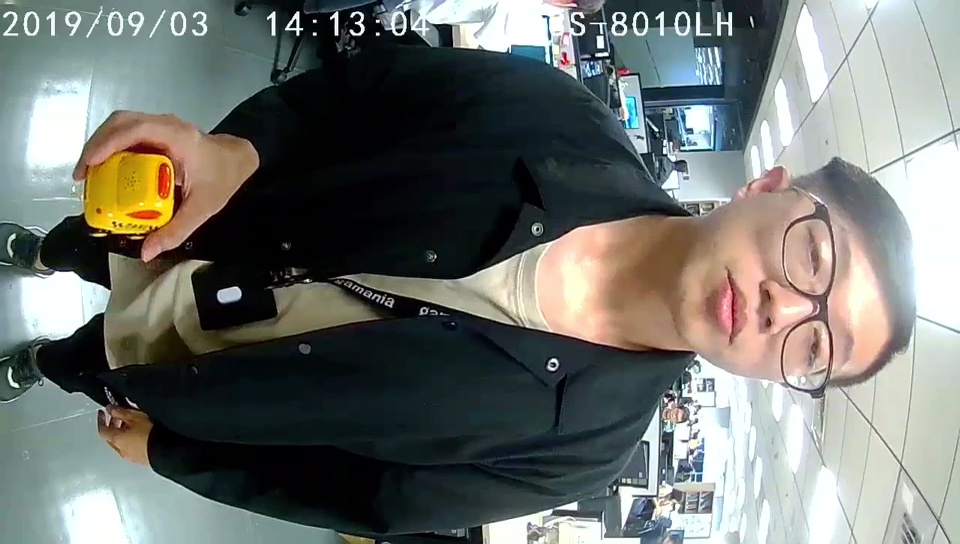car: (80, 148, 179, 233)
